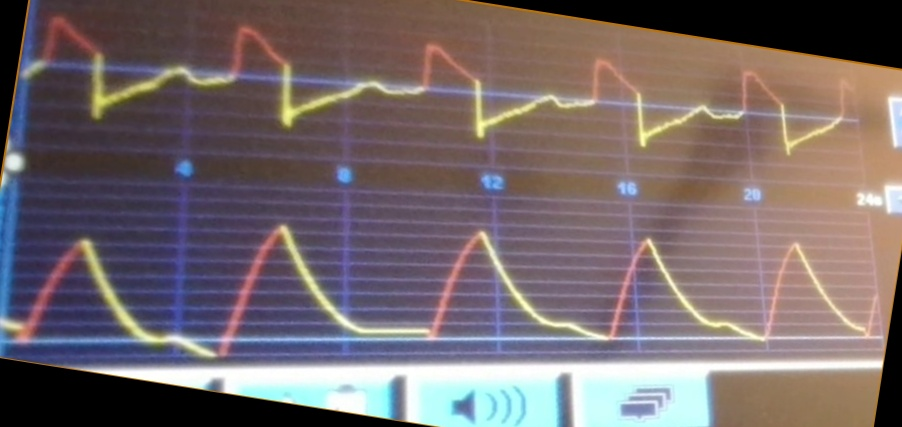Ineffective_effort Flow: (31, 11, 857, 155)
Ineffective_effort Volume: (6, 221, 876, 356)
